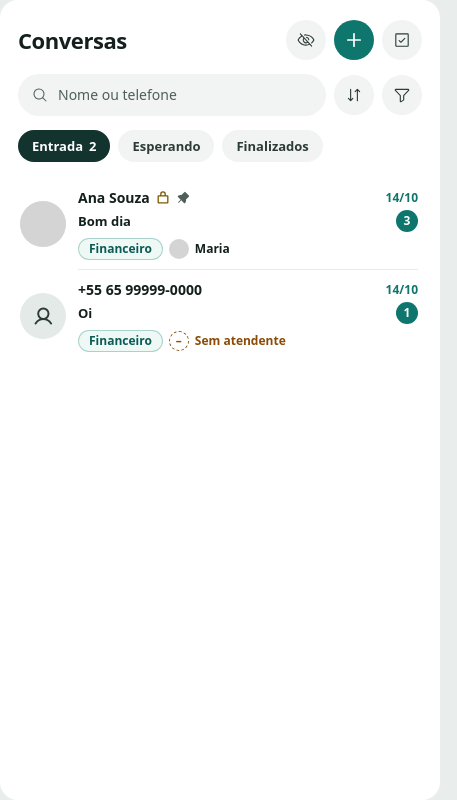
Test: shows an error banner when toggling the view fails
The width and height of the screenshot is (457, 800).
Expected: the text "Ana Souza" is shown, x1=78 y1=188 x2=150 y2=208
Step 1. Click the button named "Ver todos os setores" → (306,40), box x1=286 y1=20 x2=326 y2=60
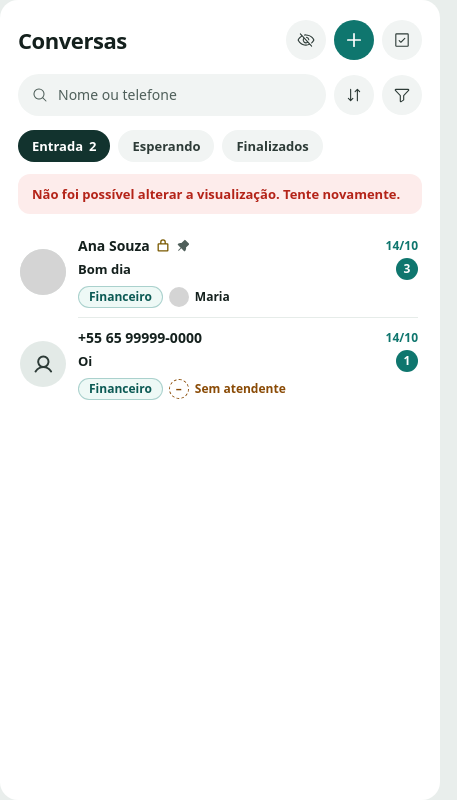
Now the message reads "Não foi possível alterar a visualização. Tente novamente.", box x1=32 y1=185 x2=400 y2=203
